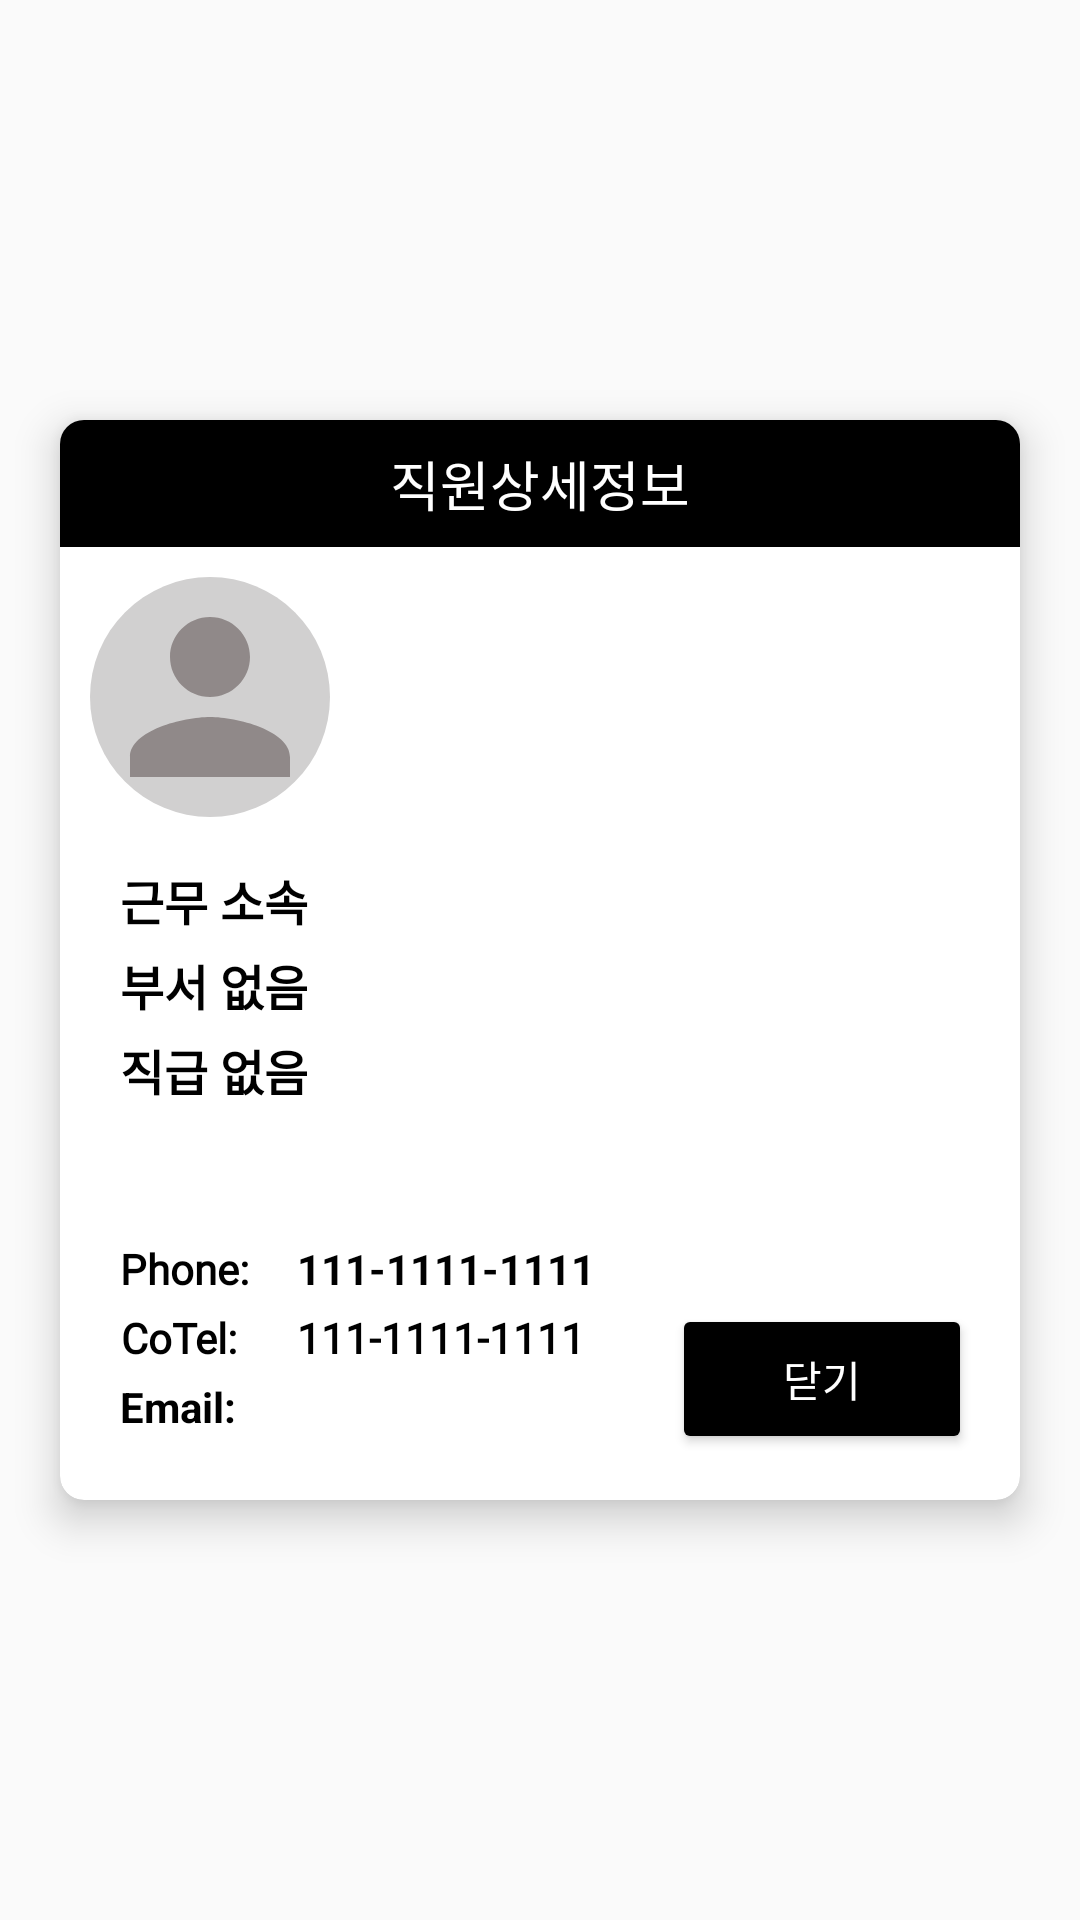

Screen size 1080w x 1920h. Icon name, then its center in pixels as (x=x, y=y):
person: (x=210, y=697)
